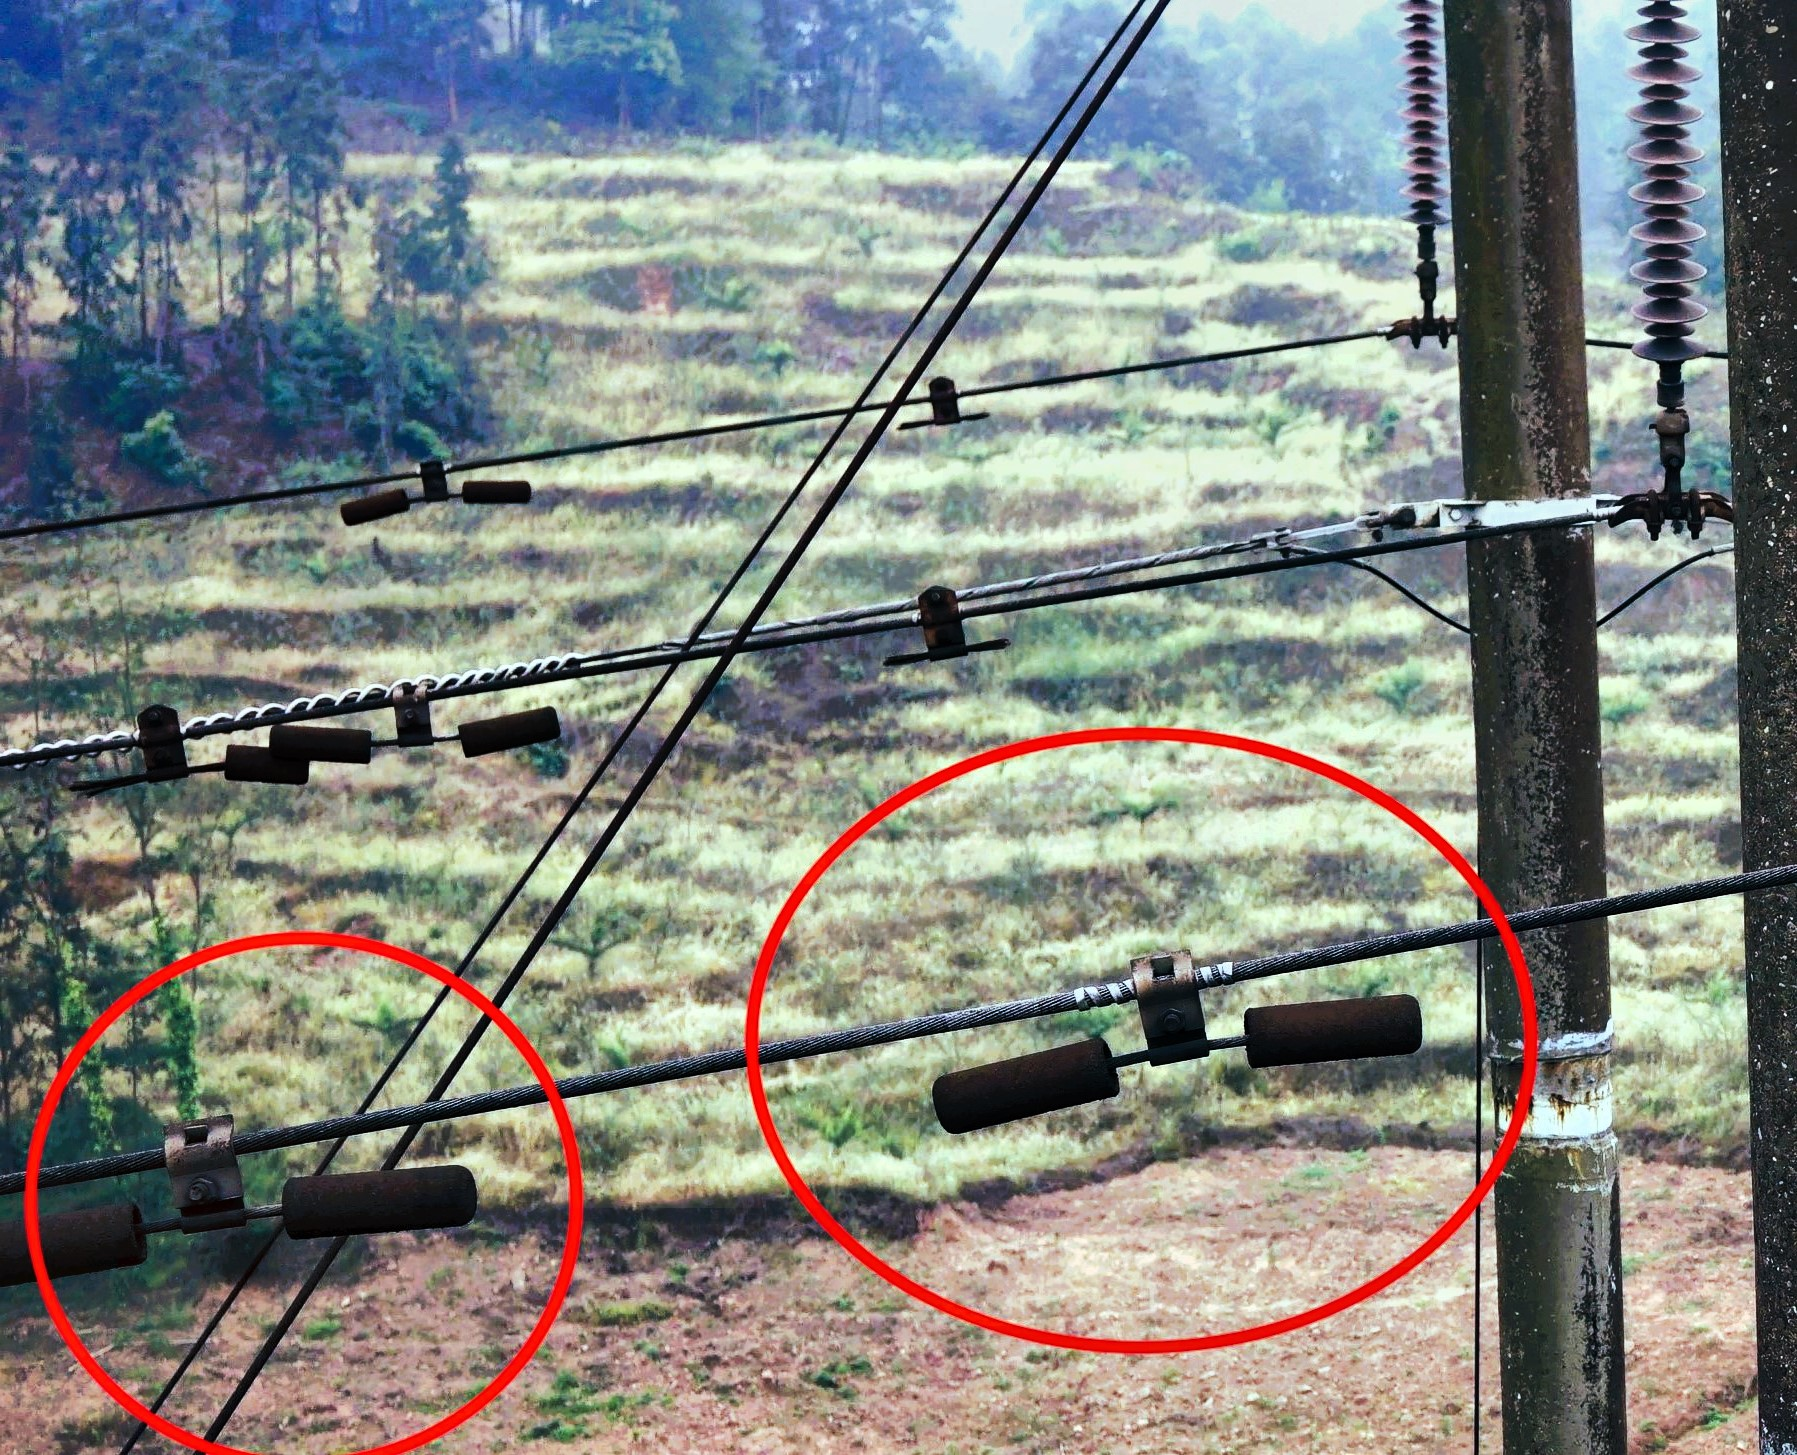Damage of shockproof hammer: (67, 679, 315, 830), (864, 554, 1043, 684)
